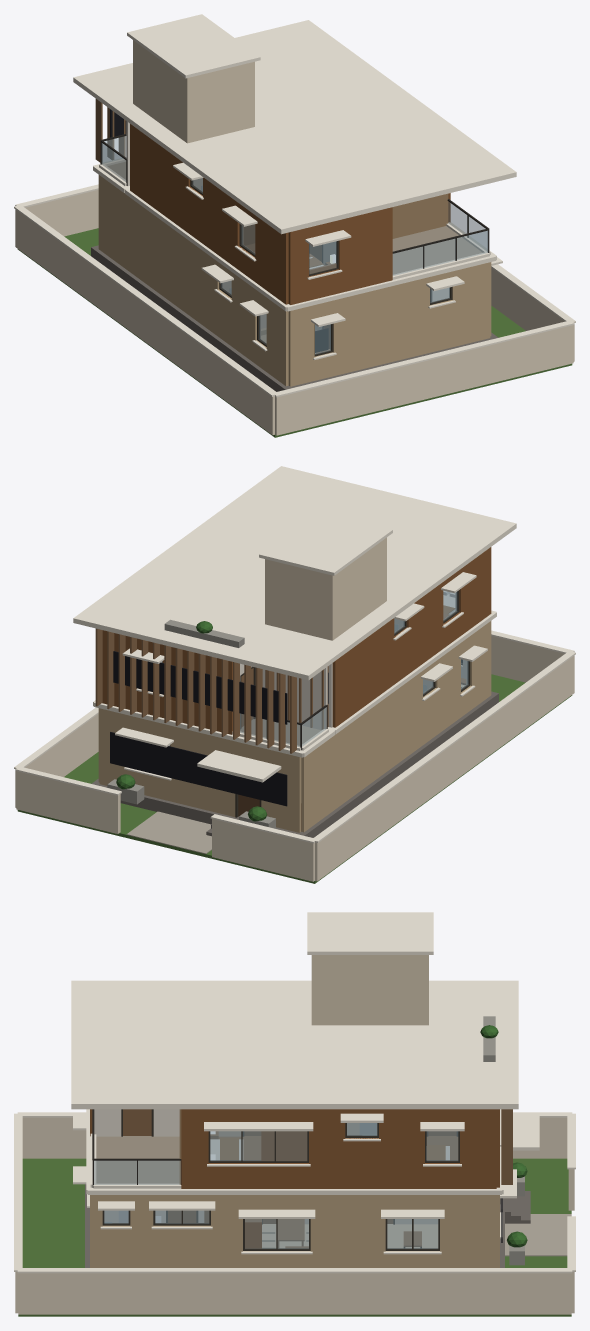
The model's file is house0.glb.
The picture shows the model from 3 angles, top to bottom: view 1: azimuth 30°, elevation 25°; view 2: azimuth 150°, elevation 25°; view 3: azimuth 270°, elevation 25°; orthographic projection. The views are drawn at different scales.
Parts seen in each view (by area): view 1: roof__concrete_band, level_0__structure__stone_cladding, site__compound_wall, level_1__structure__timber_boards, roof__plaster, site__concrete_band, level_1__structure__railing_glass, site__plinth_stone, level_1__structure__concrete_band, level_1__floors__floor_outdoor, level_1__facade__concrete_band, site__lawn (+6 smaller); view 2: roof__concrete_band, site__compound_wall, level_0__structure__stone_cladding, level_1__structure__timber_boards, level_1__facade__exterior_accent, roof__plaster, site__concrete_band, level_0__facade__glazing_band, site__plinth_stone, site__lawn, level_1__facade__glazing_band, level_1__facade__concrete_band (+9 smaller); view 3: roof__concrete_band, site__compound_wall, level_0__structure__stone_cladding, level_1__structure__timber_boards, site__lawn, roof__plaster, site__concrete_band, level_0__structure__glass, level_1__structure__glass, level_1__floors__floor_outdoor, level_1__structure__concrete_band, level_0__structure__concrete_band (+18 smaller).
Part boxes in pixels (left/top/right/bottom): roof__concrete_band: left=73, top=14, right=516, bottom=234; level_0__structure__stone_cladding: left=98, top=175, right=491, bottom=386; site__compound_wall: left=15, top=190, right=574, bottom=435; level_1__structure__timber_boards: left=130, top=124, right=450, bottom=304; roof__plaster: left=133, top=40, right=254, bottom=143; site__concrete_band: left=14, top=184, right=575, bottom=397; level_1__structure__railing_glass: left=101, top=136, right=487, bottom=275; site__plinth_stone: left=91, top=245, right=498, bottom=391; level_1__structure__concrete_band: left=96, top=158, right=495, bottom=310; level_1__floors__floor_outdoor: left=107, top=161, right=482, bottom=274; level_1__facade__concrete_band: left=93, top=164, right=496, bottom=311; site__lawn: left=17, top=228, right=572, bottom=437; roof__concrete_band: left=73, top=466, right=516, bottom=680; site__compound_wall: left=15, top=636, right=574, bottom=881; level_0__structure__stone_cladding: left=98, top=621, right=491, bottom=832; level_1__structure__timber_boards: left=102, top=547, right=491, bottom=734; level_1__facade__exterior_accent: left=95, top=628, right=328, bottom=753; roof__plaster: left=265, top=537, right=386, bottom=640; site__concrete_band: left=14, top=630, right=575, bottom=843; level_0__facade__glazing_band: left=110, top=732, right=287, bottom=806; site__plinth_stone: left=91, top=691, right=498, bottom=837; site__lawn: left=17, top=674, right=572, bottom=883; level_1__facade__glazing_band: left=113, top=651, right=328, bottom=724; level_1__facade__concrete_band: left=93, top=610, right=496, bottom=757; roof__concrete_band: left=71, top=912, right=518, bottom=1109; site__compound_wall: left=15, top=1117, right=574, bottom=1314; level_0__structure__stone_cladding: left=90, top=1195, right=499, bottom=1267; level_1__structure__timber_boards: left=90, top=1109, right=499, bottom=1188; site__lawn: left=18, top=1158, right=571, bottom=1316; roof__plaster: left=311, top=955, right=428, bottom=1025; site__concrete_band: left=14, top=1112, right=575, bottom=1273; level_0__structure__glass: left=104, top=1210, right=438, bottom=1248; level_1__structure__glass: left=210, top=1123, right=458, bottom=1160; level_1__floors__floor_outdoor: left=96, top=1136, right=179, bottom=1183; level_1__structure__concrete_band: left=87, top=1109, right=502, bottom=1194; level_0__structure__concrete_band: left=73, top=1114, right=516, bottom=1218.
Size of the model in its own units: 12.28 by 9.77 by 18.28.
